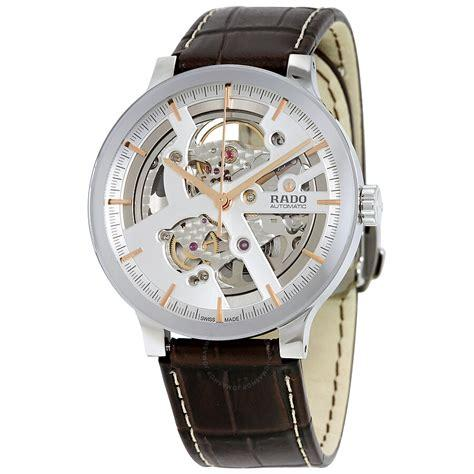Watch: (84, 1, 388, 469)
